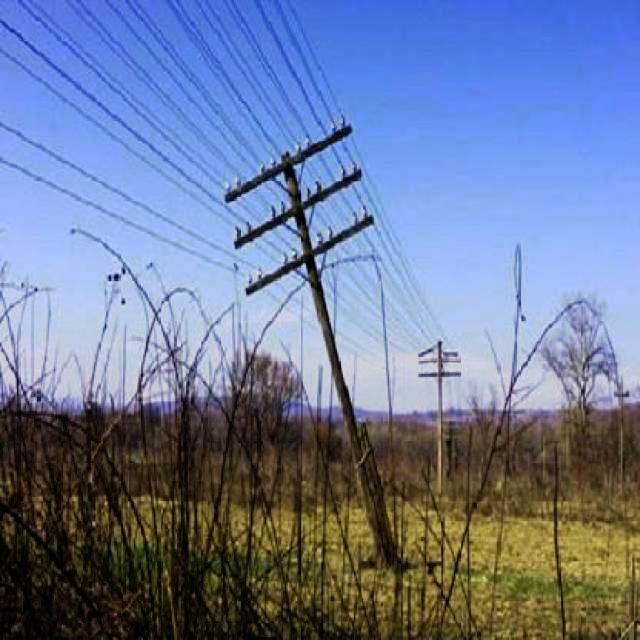poles: (210, 114, 406, 579), (418, 340, 462, 494)
wires: (9, 2, 347, 261), (332, 227, 446, 386)
